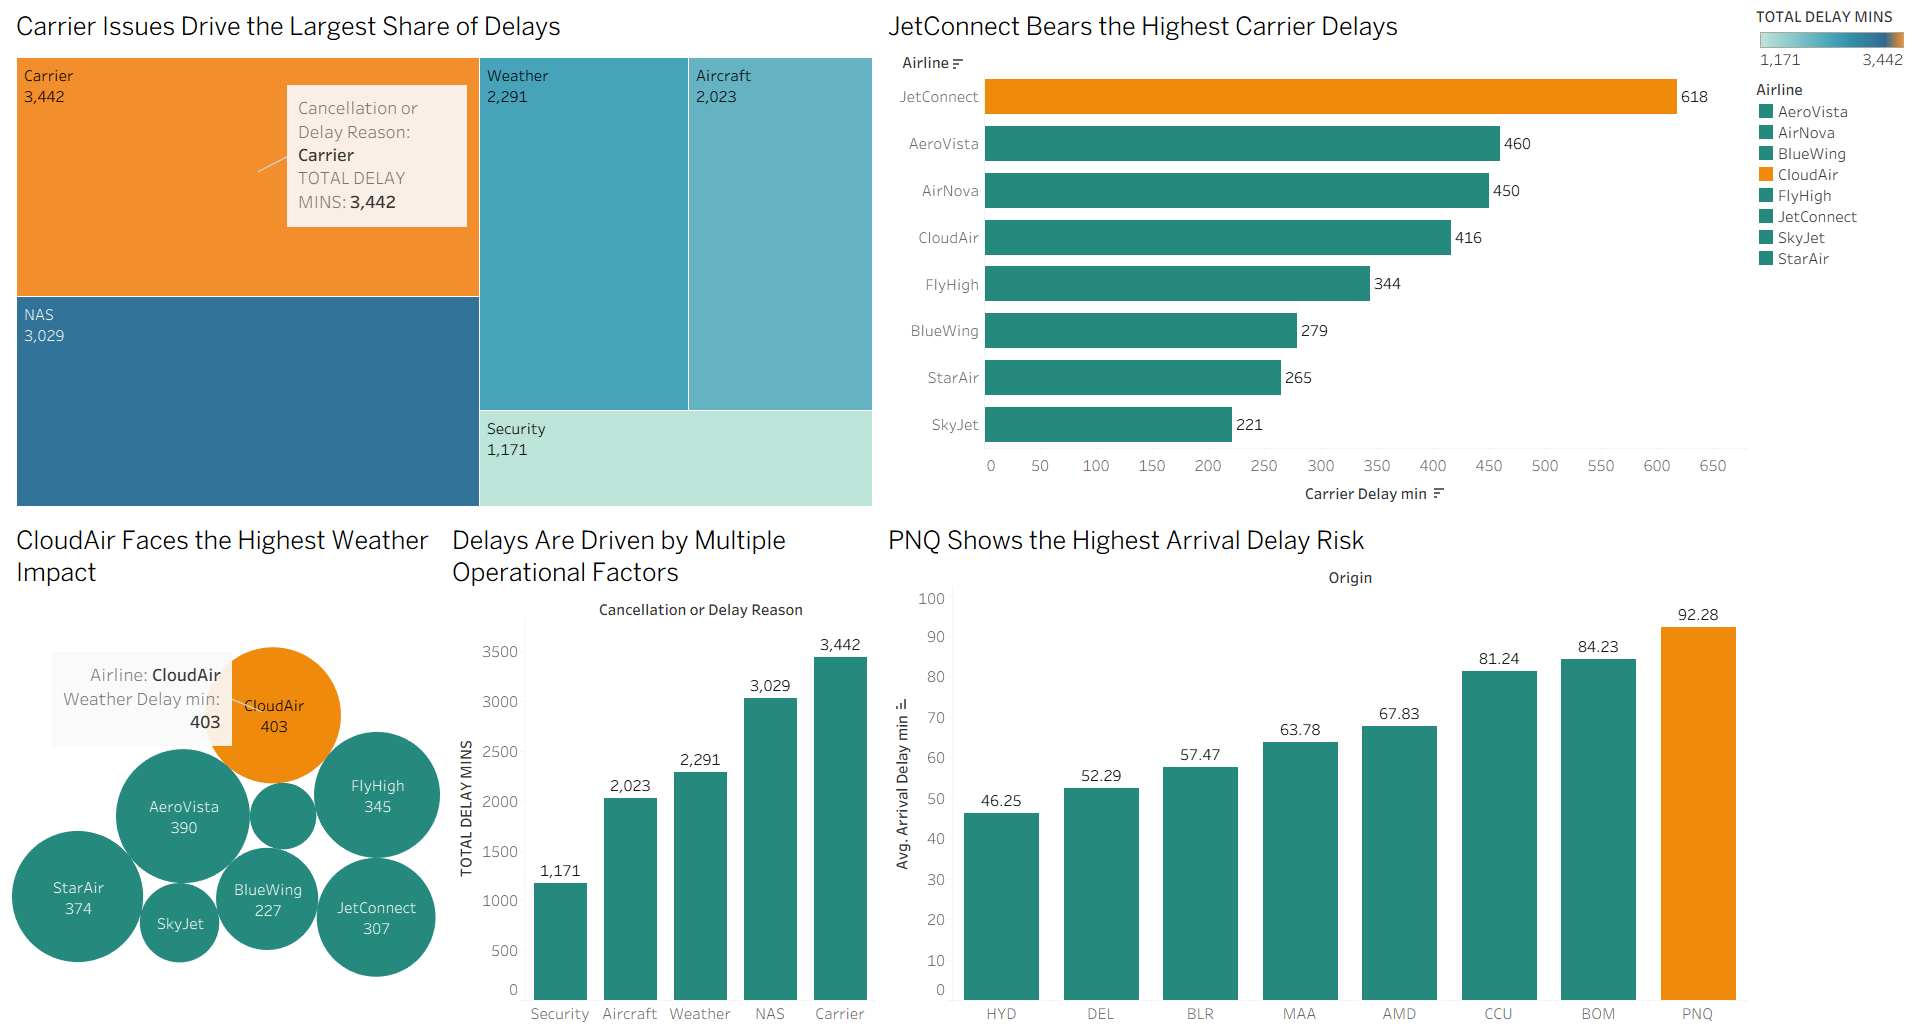

The dashboard page shown, as its layout file describes it:
{"tool":"tableau","page":{"name":"Dashboard 3","canvas":[1000,1000],"units":"permille","ordinal":2},"visuals":[{"type":"worksheet","title":"C1.WHICH DELAY REASON CONTRIBUTES THE MOST DELAY MIN OVERALL","mark":"Automatic","box":[4.2,7.7,454.2,492.3]},{"type":"worksheet","title":"C3.WHICH ARILINE IS MOST AFFECTED BY  CARRIER DELAY ","mark":"Automatic","rows":["Airline"],"cols":["Carrier_Delay_min"],"box":[458.3,7.7,454.2,492.3]},{"type":"legend","title":"C1.WHICH DELAY REASON CONTRIBUTES THE MOST DELAY MIN OVERALL","param":"[federated.0cniu2b1ezr26e1fi3ztb1c9pnie].[sum:Calculation_0772175290785795:qk]","box":[912.5,7.7,83.3,70]},{"type":"legend","title":"C2.WHICH ARILINE IS MOST AFFECTED BY  WEATHER DELAY ","param":"[federated.0cniu2b1ezr26e1fi3ztb1c9pnie].[none:Airline:nk]","box":[912.5,77.7,83.3,189.8]},{"type":"worksheet","title":"C2.WHICH ARILINE IS MOST AFFECTED BY  WEATHER DELAY ","mark":"Circle","box":[4.2,500,227.1,492.3]},{"type":"worksheet","title":"C5.DELAY PROBLEM CAUSED BY ONE FACTOR OR SEVRAL","mark":"Bar","rows":["Calculation_0772175290785795"],"cols":["Cancellation_or_Delay_Reason"],"box":[231.2,500,227.1,492.3]},{"type":"worksheet","title":"C4.WHICH ORIGIN AIRPORT HAS HIGHEST AVG ARRIVAL DELAY","mark":"Automatic","rows":["Arrival_Delay_min"],"cols":["Origin"],"box":[458.3,500,454.2,492.3]}]}

Visuals, with their boxes on the dashboard's canvas, which has no fixed pixel size, in thousandths of its width and height (x1, y1, x2, y2). These are canvas units, not pixel positions in the 1917x1032 screenshot, which may show the page scaled, cropped or inside an application window:
"C1.WHICH DELAY REASON CONTRIBUTES THE MOST DELAY MIN OVERALL" worksheet: Rect(4, 8, 458, 500)
"C3.WHICH ARILINE IS MOST AFFECTED BY  CARRIER DELAY " worksheet: Rect(458, 8, 912, 500)
"C1.WHICH DELAY REASON CONTRIBUTES THE MOST DELAY MIN OVERALL" legend: Rect(912, 8, 996, 78)
"C2.WHICH ARILINE IS MOST AFFECTED BY  WEATHER DELAY " legend: Rect(912, 78, 996, 268)
"C2.WHICH ARILINE IS MOST AFFECTED BY  WEATHER DELAY " worksheet (Circle marks): Rect(4, 500, 231, 992)
"C5.DELAY PROBLEM CAUSED BY ONE FACTOR OR SEVRAL" worksheet (Bar marks): Rect(231, 500, 458, 992)
"C4.WHICH ORIGIN AIRPORT HAS HIGHEST AVG ARRIVAL DELAY" worksheet: Rect(458, 500, 912, 992)
